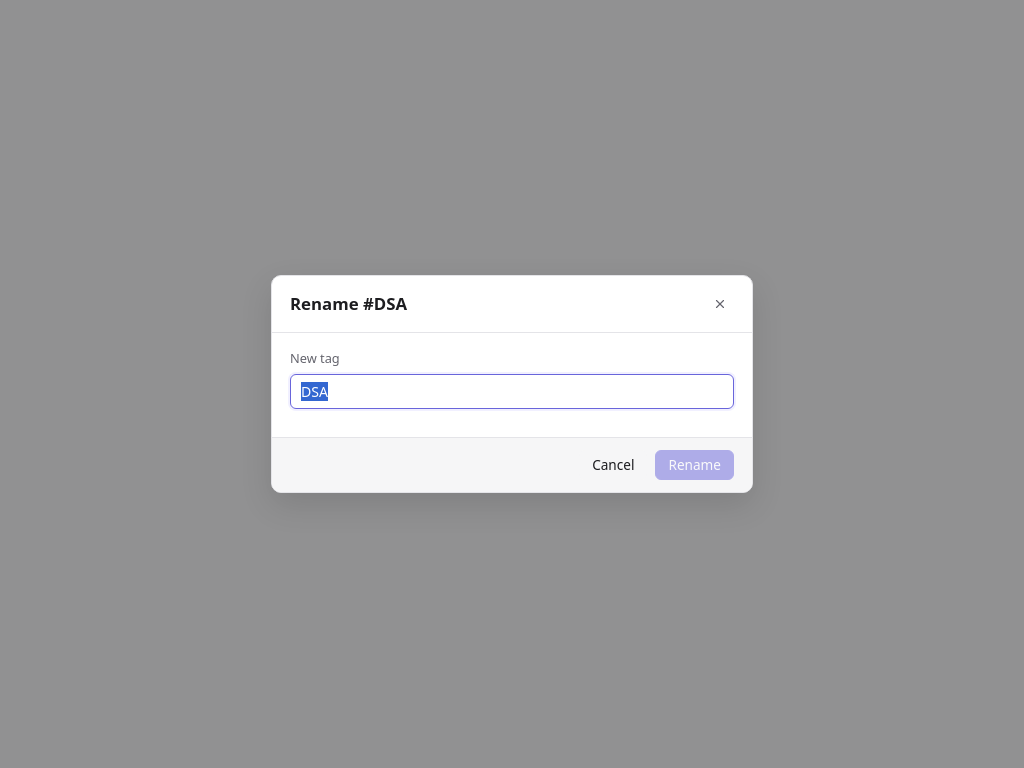
Test: RenameTagDialog › fetches and shows the plan, debounced to the last value
The width and height of the screenshot is (1024, 768).
Replace the text in the field labelled "New tag" with "Al" at (512, 391), box top-left (290, 374), bottom-right (734, 409)
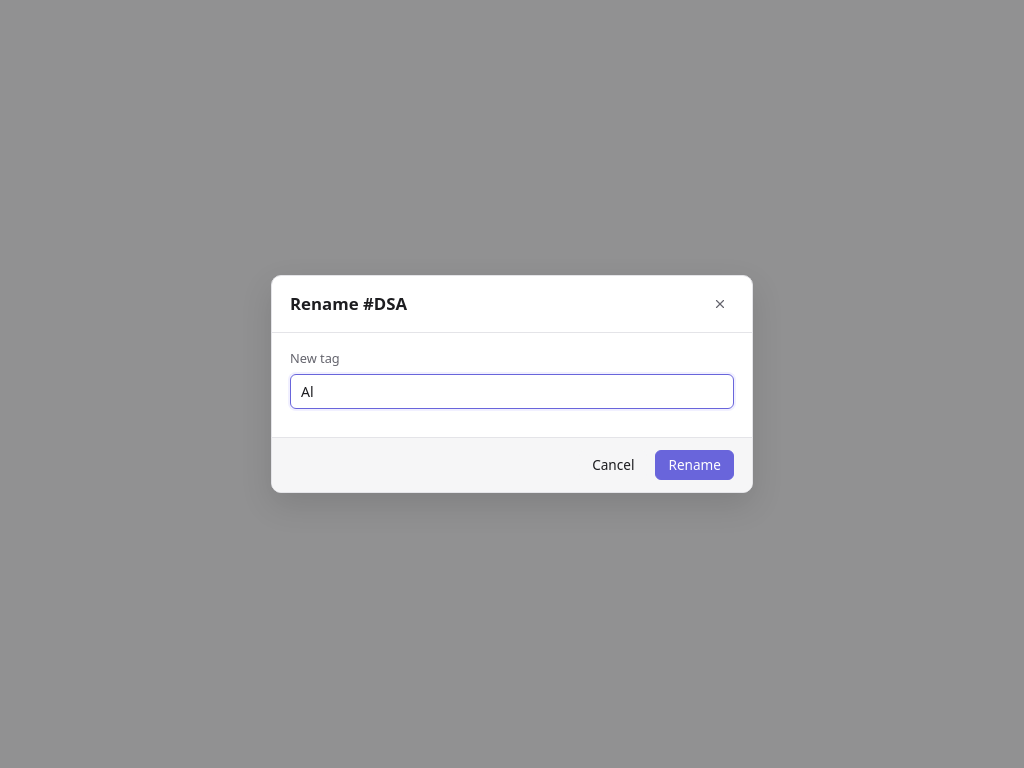
Replace the text in the field labelled "New tag" with "Algo" at (512, 391), box top-left (290, 374), bottom-right (734, 409)
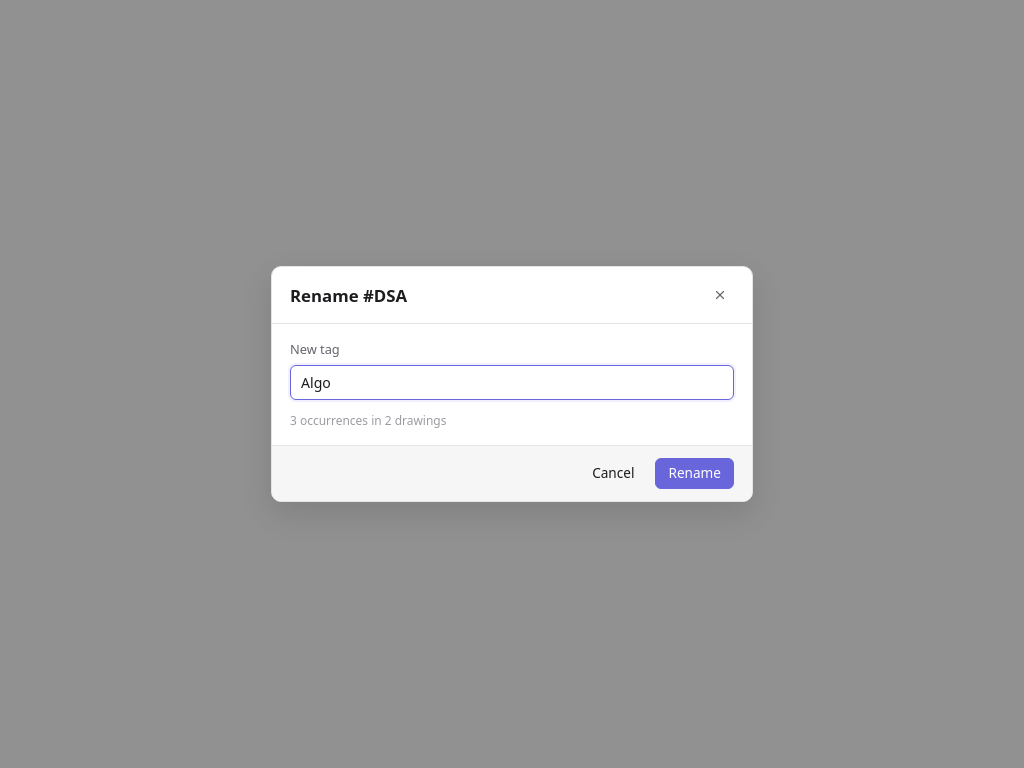
Now the element with test id "rename-tag-plan" reads "3 occurrences in 2 drawings", box top-left (290, 412), bottom-right (446, 429)
